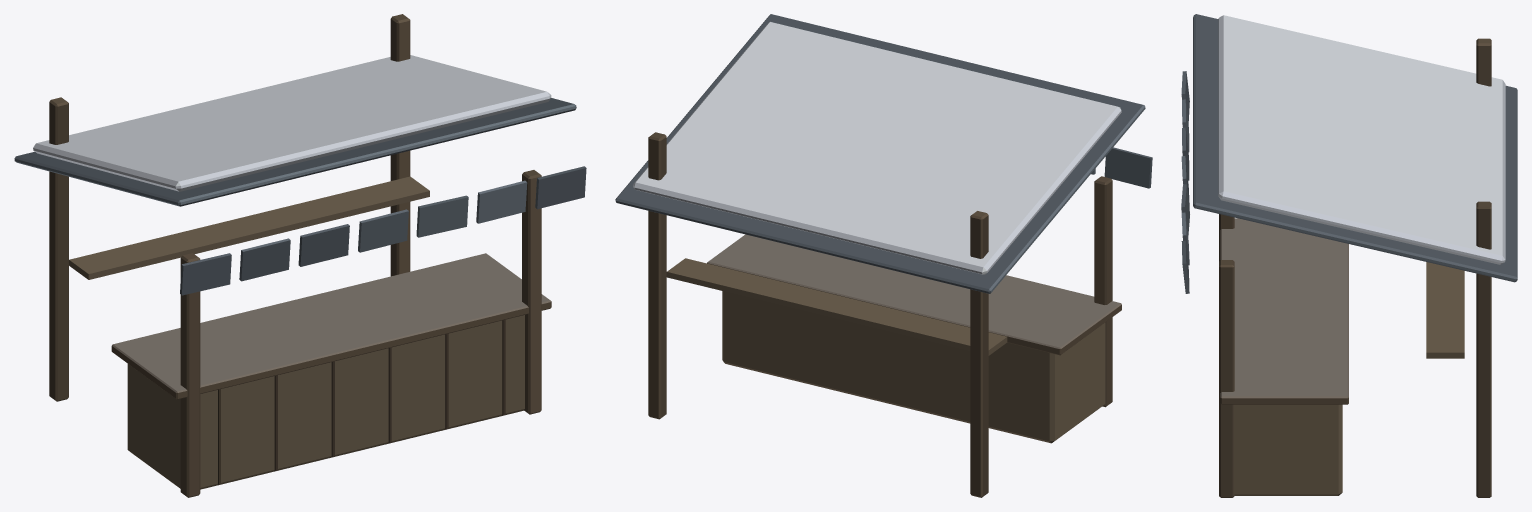
File: stall_slate.glb
The picture shows the model from 3 angles, left to right: view 1: azimuth 30°, elevation 25°; view 2: azimuth 150°, elevation 25°; view 3: azimuth 270°, elevation 25°; orthographic projection. The views are drawn at different scales.
Visible parts, largest first — view 1: stall_slate; view 2: stall_slate; view 3: stall_slate.
Part boxes in pixels (box(x1,y1,x2,y2)): stall_slate: box(14, 14, 586, 497); stall_slate: box(615, 14, 1152, 497); stall_slate: box(1181, 14, 1517, 497).
Bounding box in the file's own units: 3.54 × 2.67 × 2.62.
